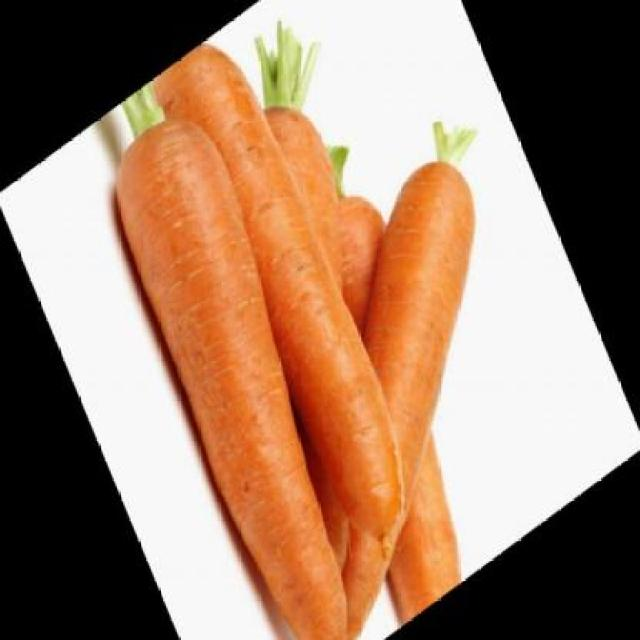carrot: (212, 141, 586, 639), (87, 91, 415, 638), (149, 19, 440, 581), (255, 180, 518, 622), (263, 82, 379, 298)
